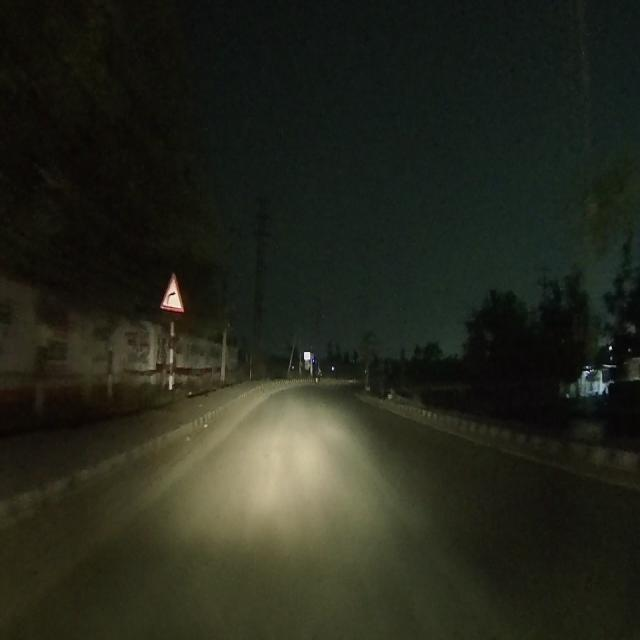right-hand-curve: (164, 269, 183, 315)
